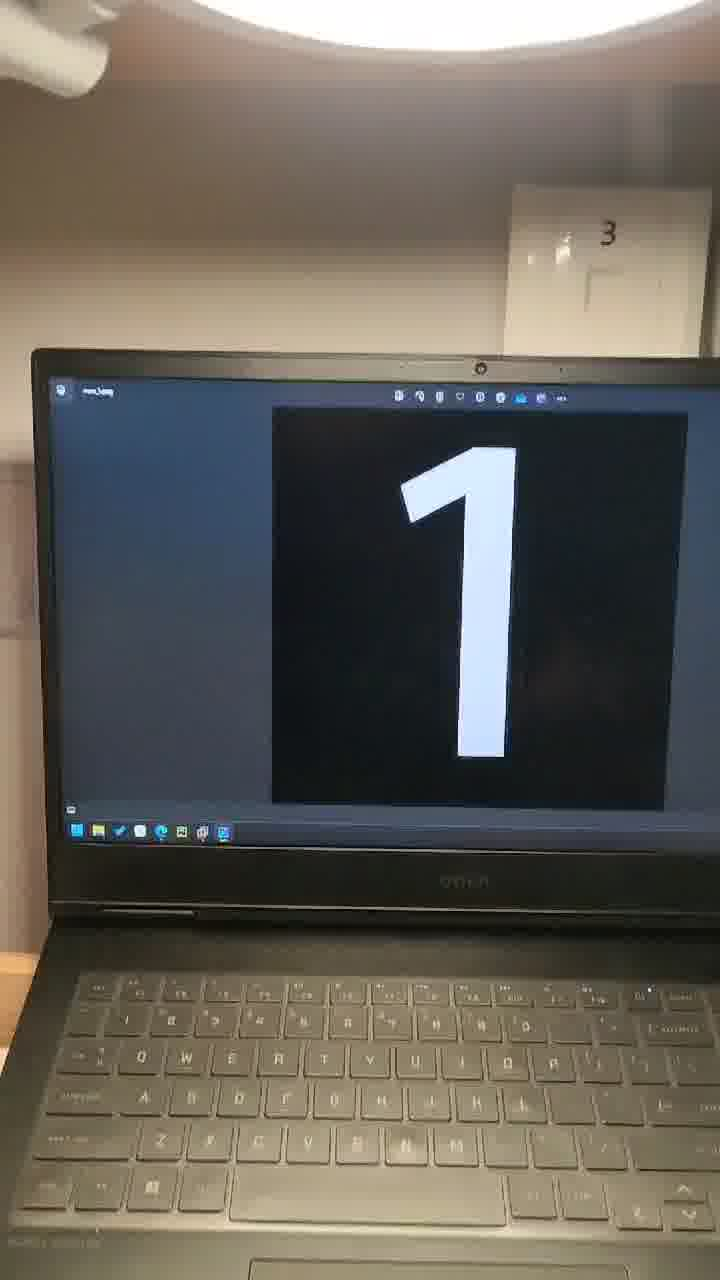one: (366, 434, 642, 820)
